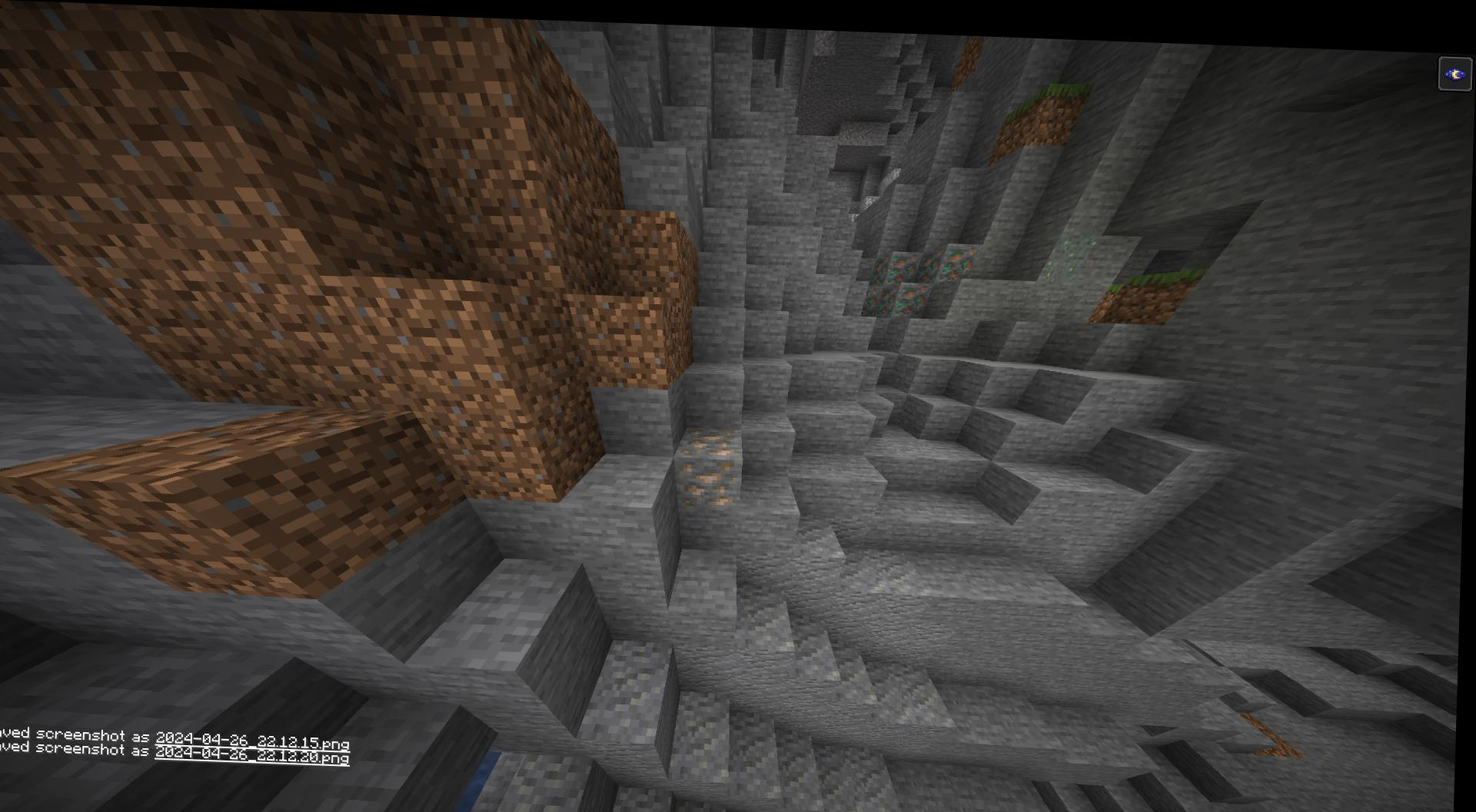iron ore: (681, 454, 741, 504), (682, 420, 741, 461)
